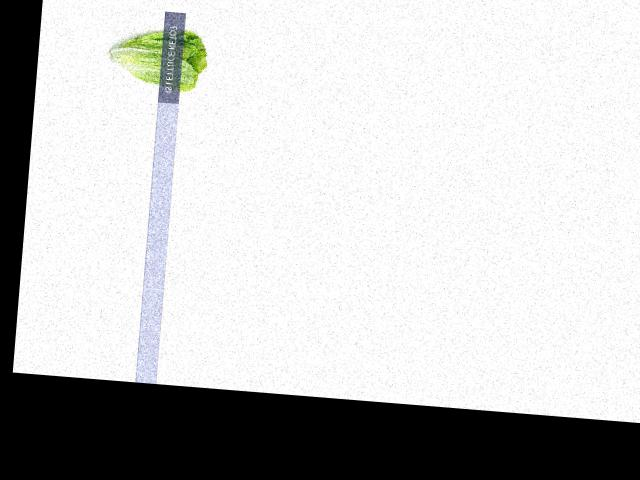lettuce: (97, 18, 209, 95)
